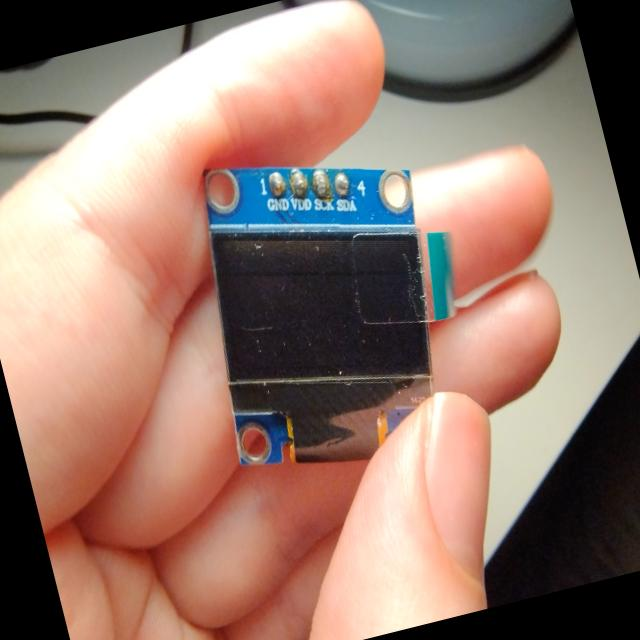oled: (167, 89, 498, 498)
